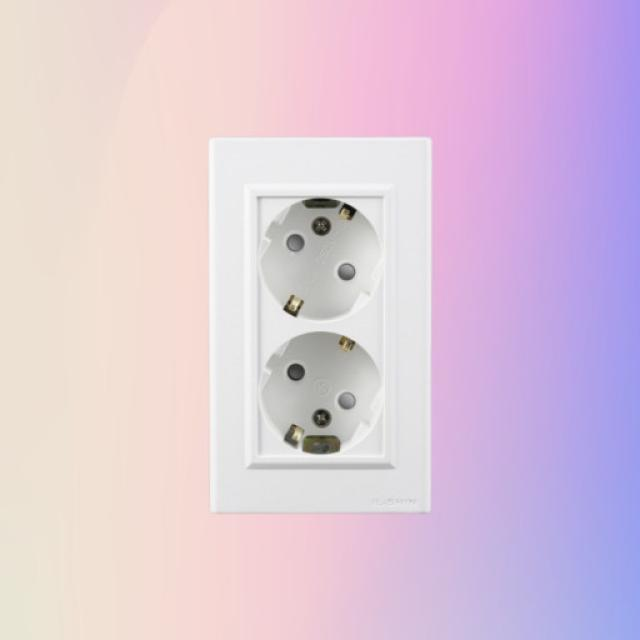typeb: (190, 96, 481, 551)
